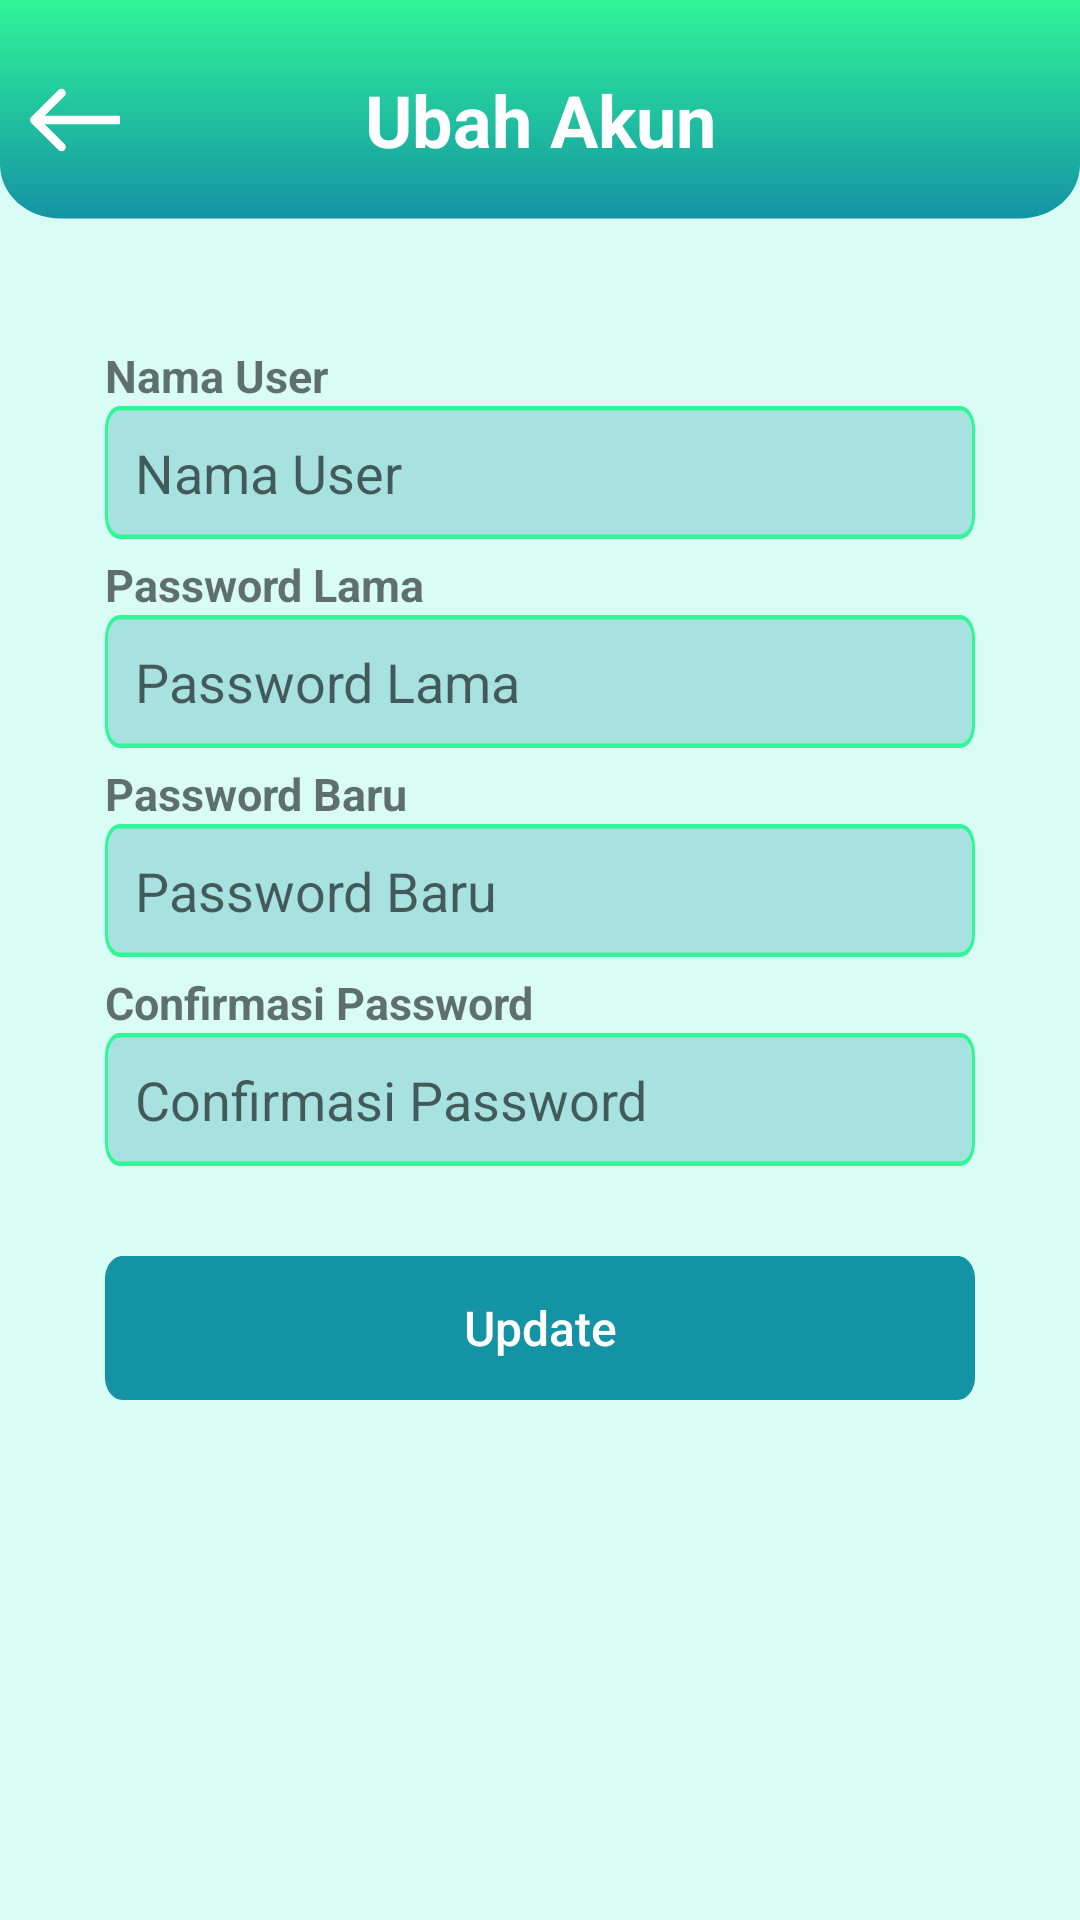

Named icons in this screenshot (1080*1920) and their centers, (x=x, y=y):
arrow: (x=75, y=120)
